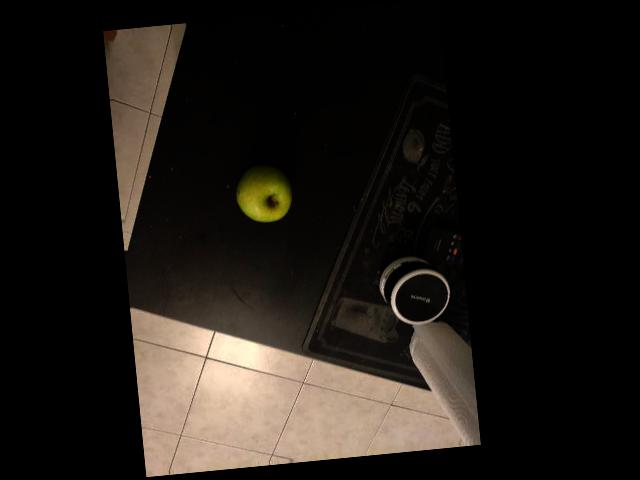apple: (141, 280, 240, 362)
